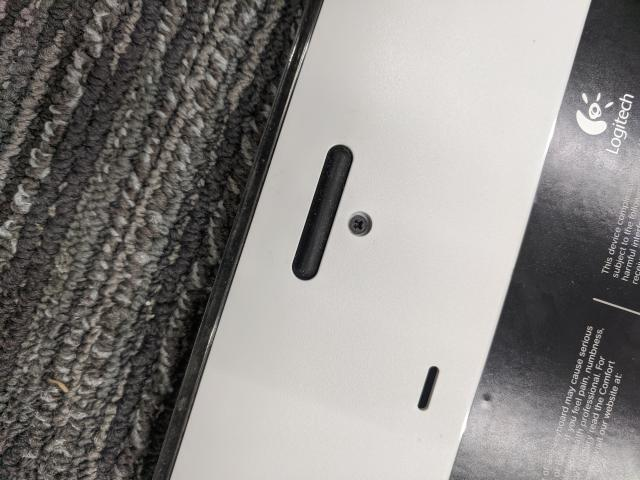CRS: (348, 214, 372, 236)
